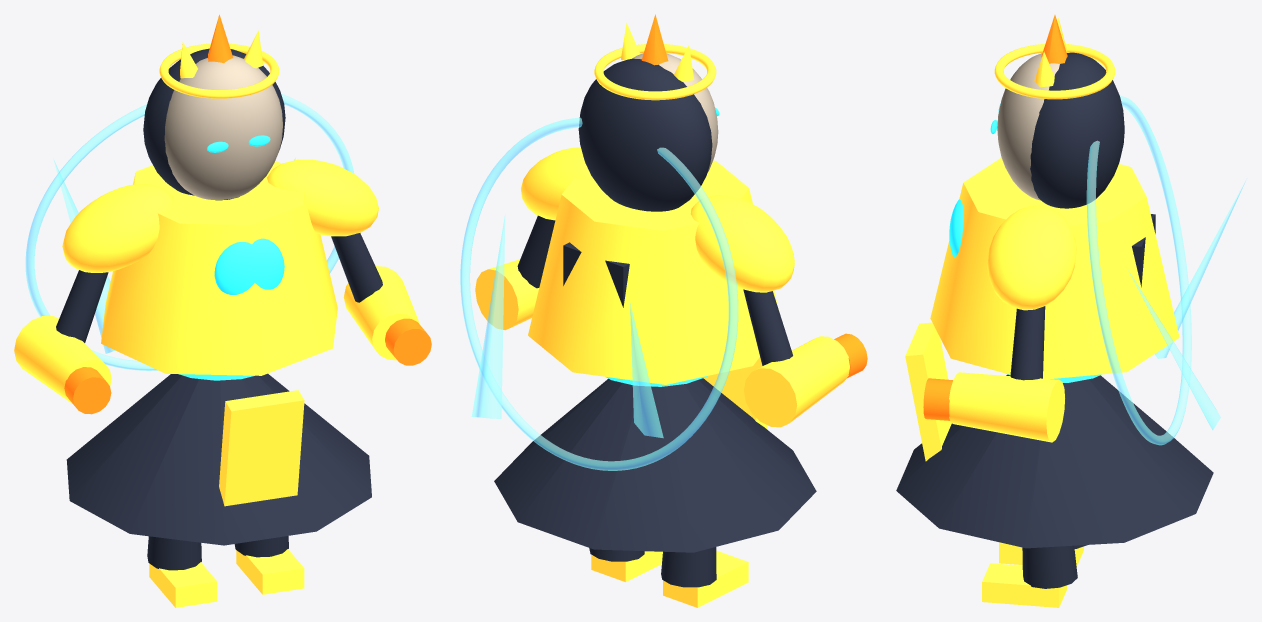
Rendered from mecha-princess-clear.glb.
3 views of the same model, side by side, from view 1: azimuth 30°, elevation 25°; view 2: azimuth 150°, elevation 25°; view 3: azimuth 270°, elevation 25° (orthographic).
Visible parts, largest first — view 1: Upper_Torso_Armor, Royal_Skirt_Armor, Faceplate, Front_Gold_Skirt_Plate, Shoulder_Pauldron_L, Shoulder_Pauldron_R, Command_Halo, Forearm_Cannon_L, Forearm_Cannon_R, Arc_Reactor, Back_Helmet_Shell, Boot_L (+10 smaller); view 2: Royal_Skirt_Armor, Upper_Torso_Armor, Back_Helmet_Shell, Command_Halo, Shoulder_Pauldron_L, Forearm_Cannon_L, Wing_Blades_R, Forearm_Cannon_R, Shoulder_Pauldron_R, Upper_Arm_L, Crown_Band, Boot_L (+10 smaller); view 3: Royal_Skirt_Armor, Upper_Torso_Armor, Back_Helmet_Shell, Shoulder_Pauldron_R, Command_Halo, Forearm_Cannon_R, Faceplate, Front_Gold_Skirt_Plate, Boot_R, Crown_Band, Upper_Arm_R, Leg_Armor_R (+6 smaller).
Boxes of the visible parts, x1=… form: Upper_Torso_Armor: x1=101, y1=161, x2=337, y2=375; Royal_Skirt_Armor: x1=66, y1=373, x2=371, y2=545; Faceplate: x1=164, y1=55, x2=282, y2=199; Front_Gold_Skirt_Plate: x1=219, y1=390, x2=304, y2=506; Shoulder_Pauldron_L: x1=62, y1=184, x2=174, y2=272; Shoulder_Pauldron_R: x1=267, y1=159, x2=378, y2=236; Command_Halo: x1=25, y1=93, x2=354, y2=370; Forearm_Cannon_L: x1=14, y1=316, x2=111, y2=403; Forearm_Cannon_R: x1=343, y1=266, x2=420, y2=360; Arc_Reactor: x1=214, y1=238, x2=284, y2=294; Back_Helmet_Shell: x1=143, y1=48, x2=285, y2=195; Boot_L: x1=149, y1=562, x2=217, y2=607; Royal_Skirt_Armor: x1=494, y1=378, x2=816, y2=552; Upper_Torso_Armor: x1=528, y1=160, x2=778, y2=384; Back_Helmet_Shell: x1=578, y1=58, x2=712, y2=211; Command_Halo: x1=460, y1=117, x2=738, y2=470; Shoulder_Pauldron_L: x1=690, y1=195, x2=794, y2=292; Forearm_Cannon_L: x1=744, y1=336, x2=849, y2=427; Wing_Blades_R: x1=471, y1=214, x2=505, y2=418; Forearm_Cannon_R: x1=475, y1=259, x2=538, y2=330; Shoulder_Pauldron_R: x1=521, y1=147, x2=594, y2=220; Upper_Arm_L: x1=743, y1=289, x2=792, y2=365; Crown_Band: x1=594, y1=44, x2=716, y2=100; Boot_L: x1=663, y1=550, x2=748, y2=607; Royal_Skirt_Armor: x1=896, y1=374, x2=1213, y2=548; Upper_Torso_Armor: x1=930, y1=157, x2=1179, y2=378; Back_Helmet_Shell: x1=1030, y1=52, x2=1124, y2=208; Shoulder_Pauldron_R: x1=987, y1=205, x2=1076, y2=310; Command_Halo: x1=1086, y1=96, x2=1191, y2=445; Forearm_Cannon_R: x1=949, y1=372, x2=1064, y2=442; Faceplate: x1=997, y1=53, x2=1059, y2=200; Front_Gold_Skirt_Plate: x1=905, y1=322, x2=951, y2=461; Boot_R: x1=982, y1=563, x2=1066, y2=607; Crown_Band: x1=994, y1=43, x2=1115, y2=99; Upper_Arm_R: x1=1010, y1=306, x2=1045, y2=380; Leg_Armor_R: x1=1022, y1=545, x2=1077, y2=588.
Bounding box in the file's own units: 3.09 × 4.61 × 2.6.
